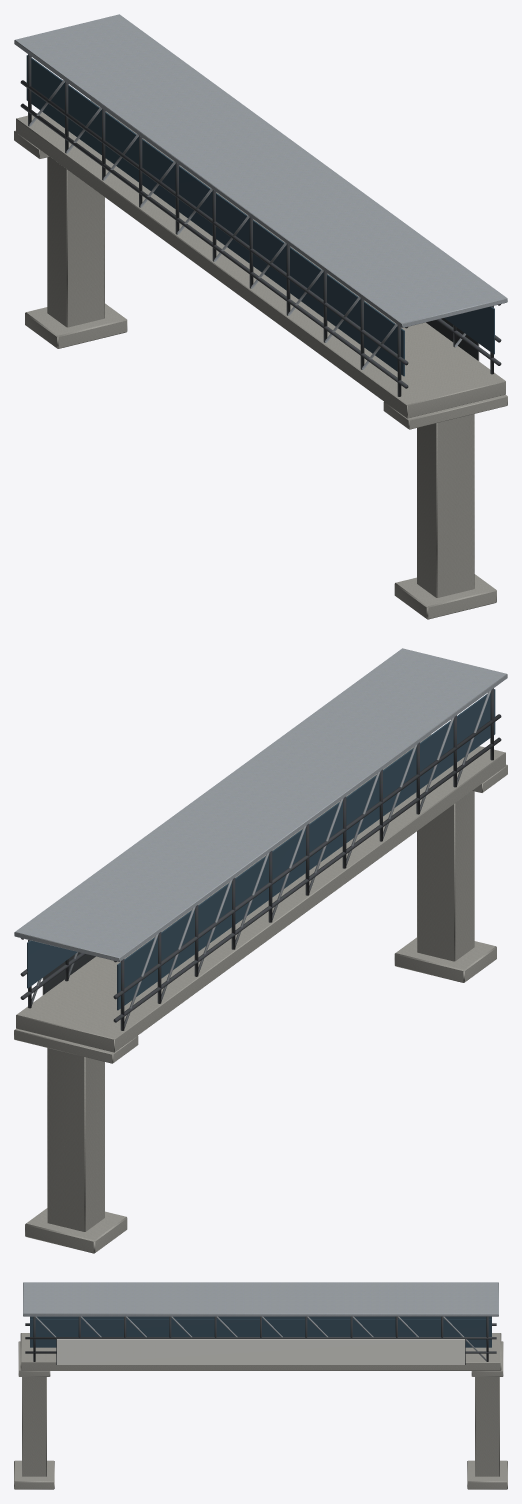
The model's file is pedestrian-bridge_high.glb.
3 views of the same model, one above another, from view 1: azimuth 30°, elevation 25°; view 2: azimuth 150°, elevation 25°; view 3: azimuth 270°, elevation 25° (orthographic). The views are drawn at different scales.
Parts seen in each view (by area): view 1: concrete, galvanised, glazing, dark-steel; view 2: galvanised, concrete, glazing, dark-steel; view 3: galvanised, concrete, board-face, glazing, dark-steel.
Boxes of the visible parts, x1,y1,x2,y2 form: concrete: (14, 100, 507, 619); galvanised: (14, 14, 507, 369); glazing: (26, 55, 494, 376); dark-steel: (20, 54, 501, 396); galvanised: (14, 648, 507, 1028); concrete: (14, 734, 507, 1253); glazing: (27, 689, 495, 1010); dark-steel: (20, 688, 501, 1030); galvanised: (23, 1282, 498, 1361); concrete: (14, 1333, 507, 1489); board-face: (57, 1339, 464, 1364); glazing: (30, 1316, 491, 1347); dark-steel: (25, 1316, 496, 1364).
Bounding box in the file's own units: 3.3 × 8.82 × 21.8.
Materials: 5 (3 with a texture image).
